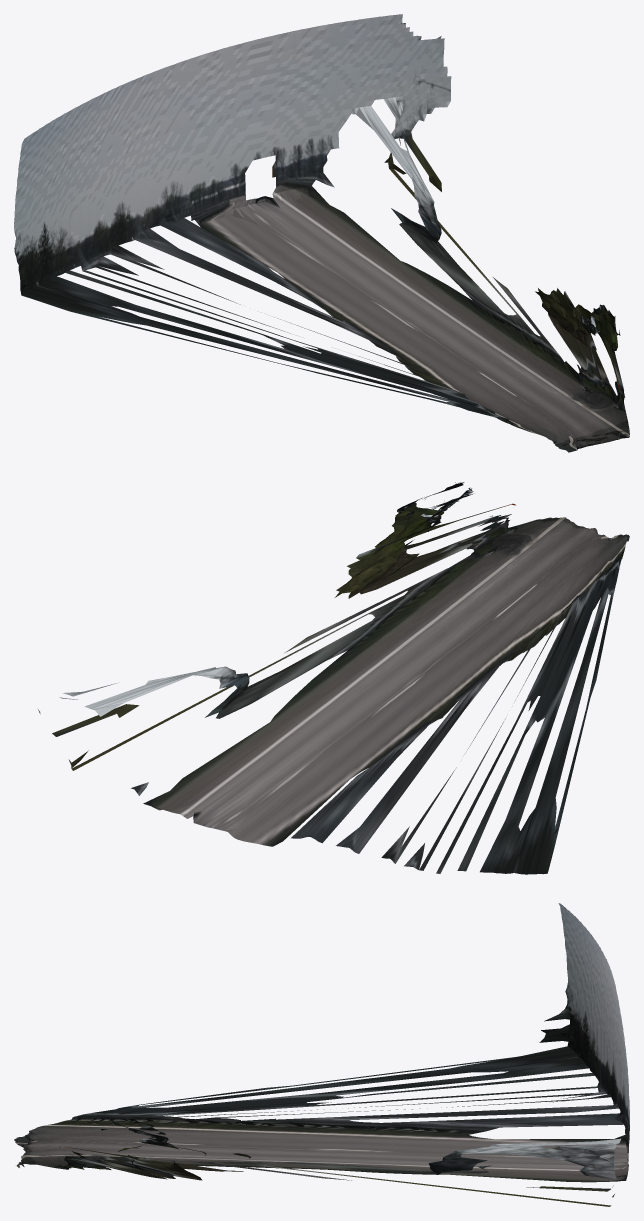
The picture shows the model from 3 angles, top to bottom: view 1: azimuth 30°, elevation 25°; view 2: azimuth 150°, elevation 25°; view 3: azimuth 270°, elevation 25°; orthographic projection. The views are drawn at different scales.
Parts seen in each view (by area): view 1: defaultobject; view 2: defaultobject; view 3: defaultobject.
Boxes of the visible parts, bbox=[...] form: defaultobject: bbox=[14, 14, 629, 452]; defaultobject: bbox=[37, 482, 629, 874]; defaultobject: bbox=[14, 903, 629, 1206].
Bounding box in the file's own units: 34.09 × 12.7 × 44.69.
Materials: 1 (1 with a texture image).
